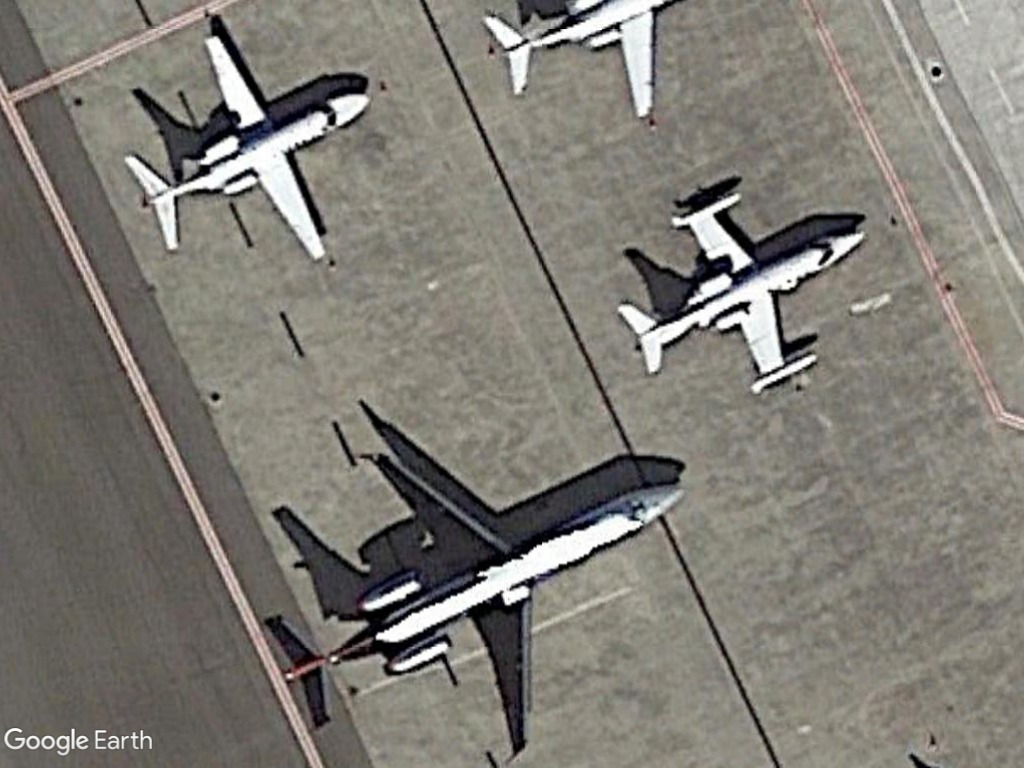chartered: (260, 431, 690, 759), (126, 32, 373, 268), (620, 185, 867, 395)
